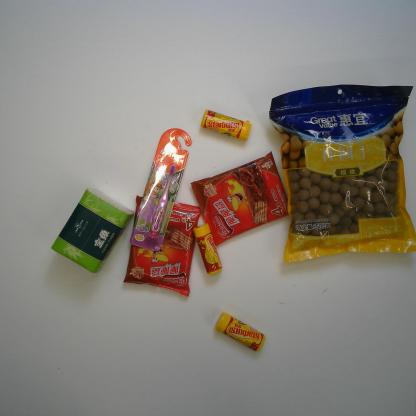Candy: (214, 312, 266, 353), (200, 109, 254, 142), (193, 223, 223, 276)
Dessert: (190, 151, 290, 247), (123, 195, 201, 298)
Dried Food: (270, 84, 416, 264)
Personal Hygiene: (128, 128, 192, 253)
Tissue: (50, 188, 135, 275)
